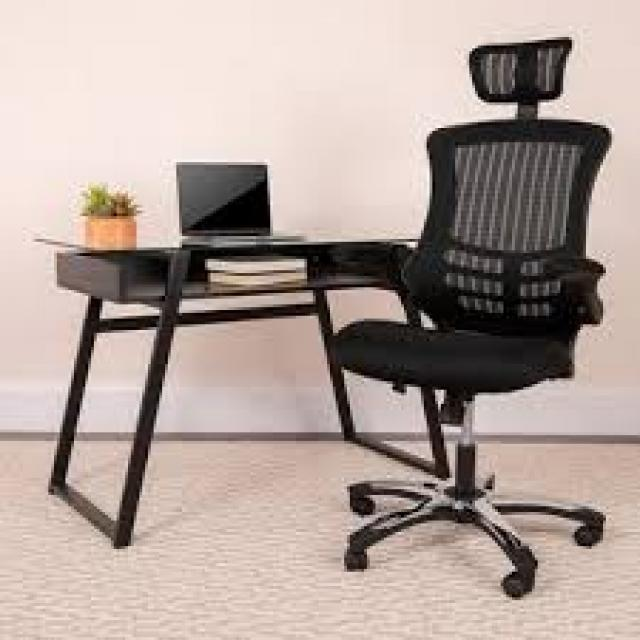chair: (328, 38, 616, 597)
